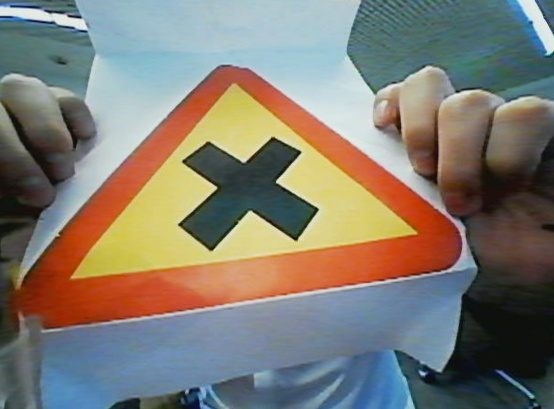junction: (15, 68, 465, 318)
